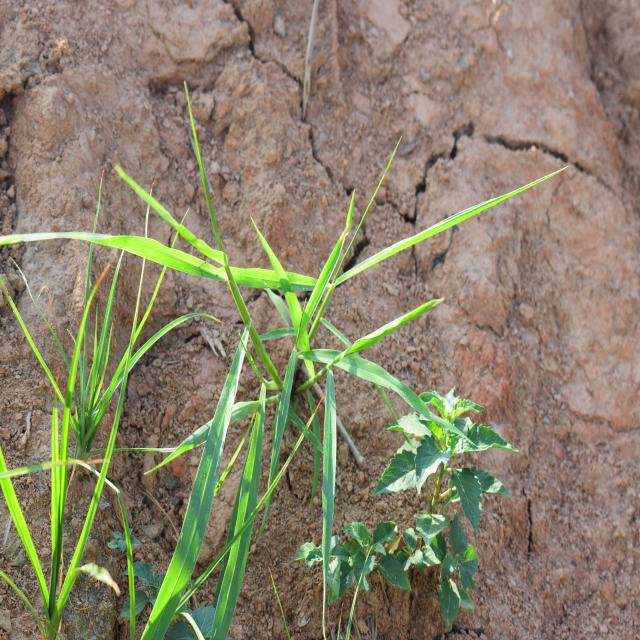green_foxtail: (120, 144, 386, 532)
